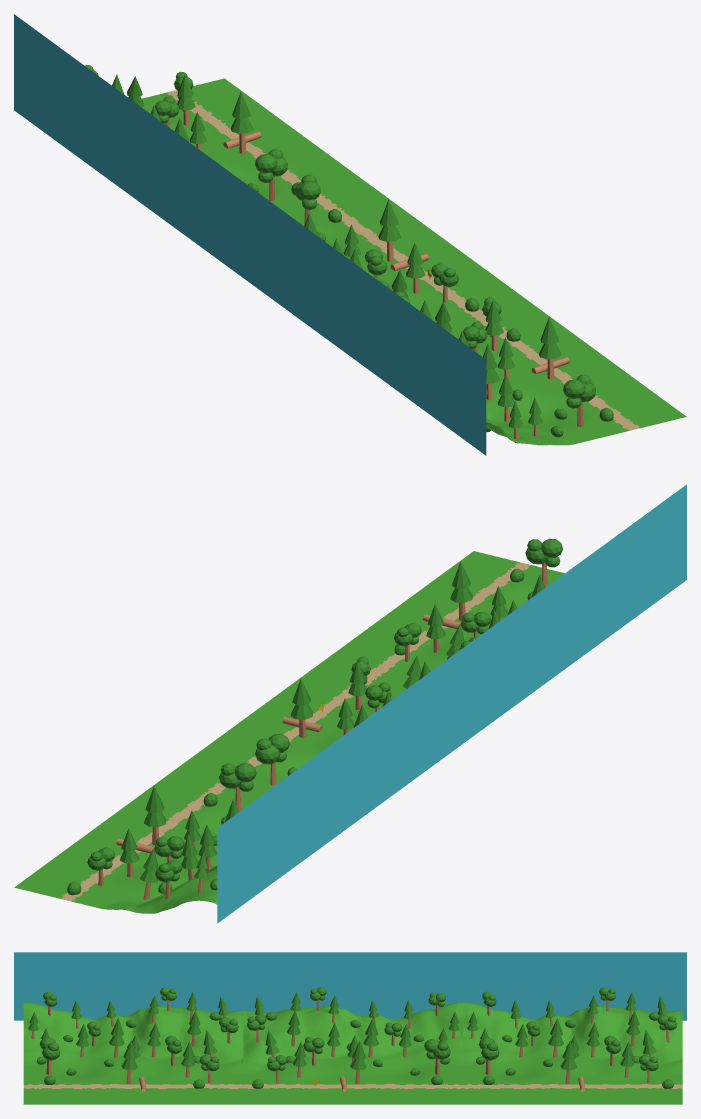
The model's file is TDS-EnvironmentPrototype.fbx.
3 renders of one model, top to bottom at view 1: azimuth 30°, elevation 25°; view 2: azimuth 150°, elevation 25°; view 3: azimuth 270°, elevation 25°, orthographic. The views are drawn at different scales.
Parts seen in each view (by area): view 1: Plane, Terrain.001, Terrain.002, Terrain, OakTree.013, OakTree.020, PineTree.030, PineTree.004, PineTree, OakTree.006; view 2: Plane, Terrain.002, Terrain, Terrain.001, OakTree.020, OakTree.013, OakTree.006, PineTree, PineTree.030, PineTree.004; view 3: Plane, Terrain.001, Terrain.002, Terrain, OakTree.006, OakTree.013, OakTree.020, PineTree.004, PineTree.030, PineTree, OakTree.002, PineTree.032 (+16 smaller).
Boxes of the visible parts, x1=… form: Plane: x1=14, y1=14, x2=486, y2=455; Terrain.001: x1=450, y1=304, x2=686, y2=445; Terrain.002: x1=142, y1=78, x2=378, y2=213; Terrain: x1=287, y1=191, x2=532, y2=323; OakTree.013: x1=563, y1=374, x2=595, y2=426; OakTree.020: x1=255, y1=149, x2=287, y2=201; PineTree.030: x1=230, y1=91, x2=253, y2=153; PineTree.004: x1=539, y1=317, x2=561, y2=379; PineTree: x1=378, y1=199, x2=400, y2=261; OakTree.006: x1=294, y1=174, x2=320, y2=225; Plane: x1=217, y1=484, x2=686, y2=923; Terrain.002: x1=14, y1=775, x2=258, y2=913; Terrain: x1=168, y1=663, x2=406, y2=797; Terrain.001: x1=321, y1=551, x2=564, y2=683; OakTree.020: x1=219, y1=763, x2=256, y2=811; OakTree.013: x1=525, y1=538, x2=562, y2=586; OakTree.006: x1=255, y1=734, x2=289, y2=785; PineTree: x1=290, y1=678, x2=313, y2=737; PineTree.030: x1=144, y1=786, x2=166, y2=844; PineTree.004: x1=450, y1=561, x2=472, y2=620; Plane: x1=14, y1=952, x2=686, y2=1020; Terrain.001: x1=23, y1=1002, x2=243, y2=1104; Terrain.002: x1=463, y1=1002, x2=682, y2=1104; Terrain: x1=243, y1=1002, x2=462, y2=1104; OakTree.006: x1=424, y1=1039, x2=450, y2=1074; OakTree.013: x1=40, y1=1037, x2=60, y2=1074; OakTree.020: x1=479, y1=1037, x2=499, y2=1074; PineTree.004: x1=121, y1=1040, x2=137, y2=1083; PineTree.030: x1=560, y1=1040, x2=576, y2=1083; PineTree: x1=350, y1=1040, x2=366, y2=1083; OakTree.002: x1=303, y1=1036, x2=324, y2=1065; PineTree.032: x1=548, y1=1018, x2=563, y2=1057.
Bounding box in the file's own units: 15958 × 8635 × 62902.
